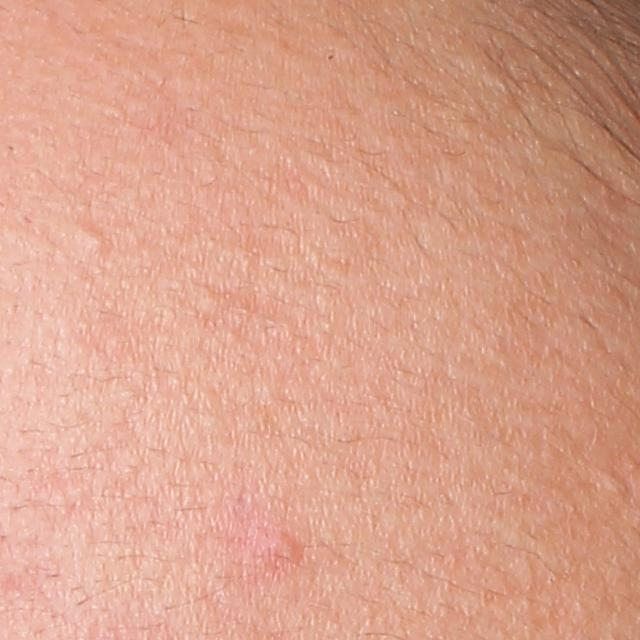comedo: (66, 215, 112, 270), (598, 477, 633, 497), (320, 48, 341, 66)
papule: (246, 521, 305, 577)
